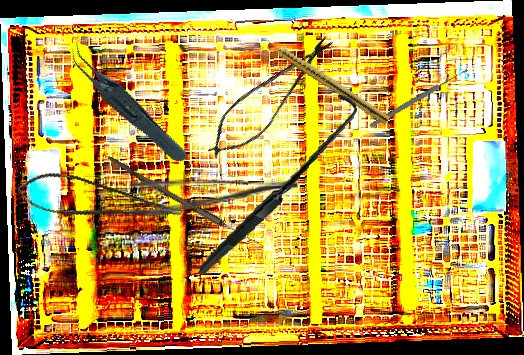Dressing Forceps: (130, 179, 300, 216)
Handpiece: (264, 35, 392, 126)
Hook Surgical: (180, 93, 373, 274)
Micro Scissor: (196, 23, 344, 170), (14, 161, 184, 247)
Surgical Spoon: (105, 155, 267, 251), (369, 67, 469, 129)
Tissue Forceps: (65, 23, 190, 182)
